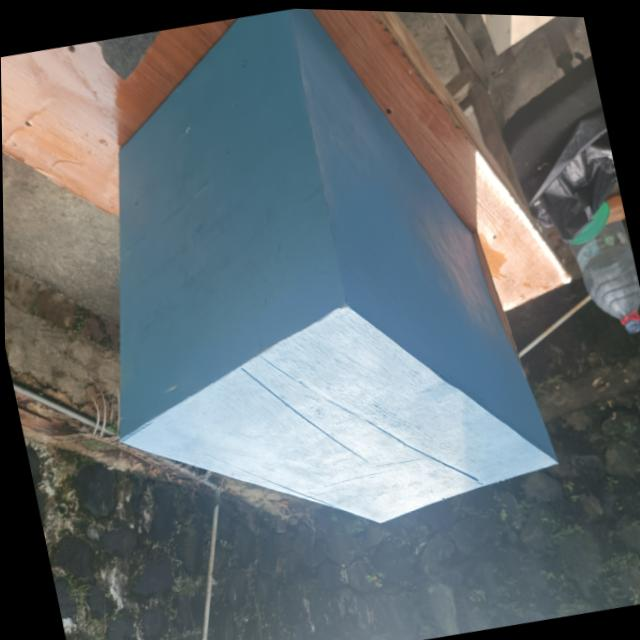blue_box: (36, 1, 562, 583)
